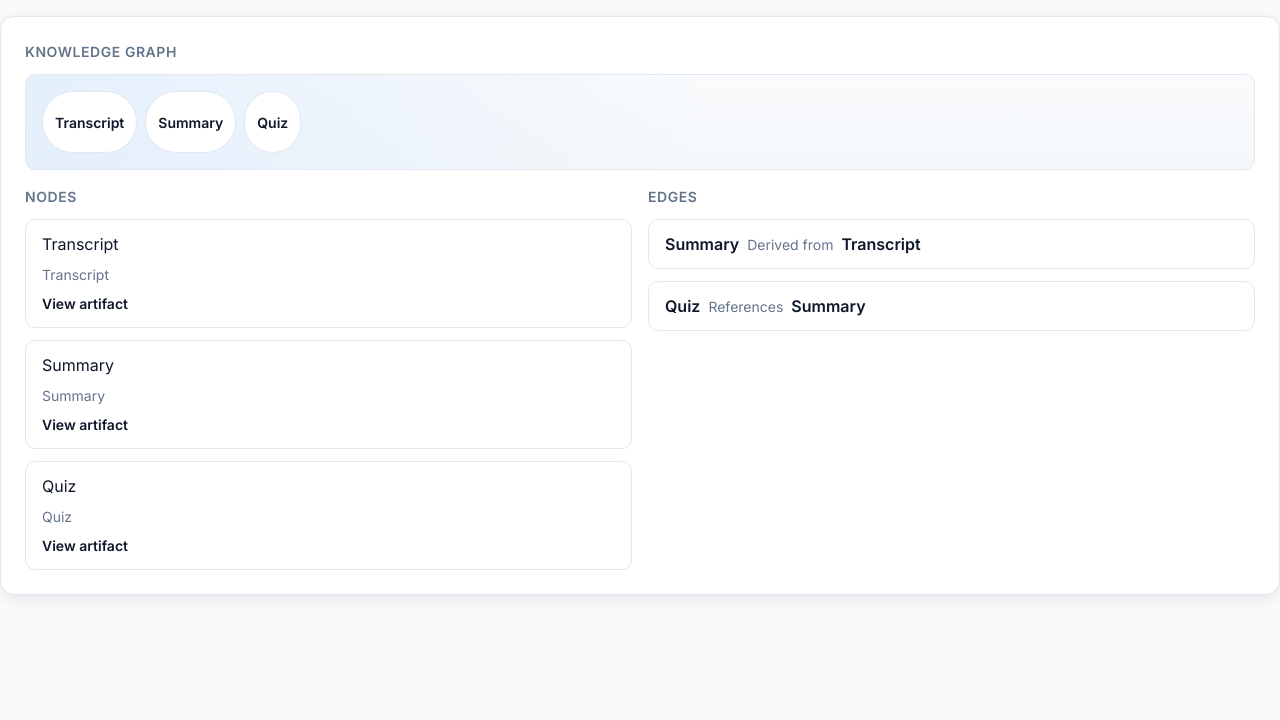
Scenario: KnowledgeGraphPanel › shows neighborhood loading state while neighborhood loads
This screenshot has width=1280, height=720.
Step 1. Click the button with test id "graph-node-select-550e8400-e29b-41d4-a716-446655440002" → (78, 365), box 42,353 -> 615,406
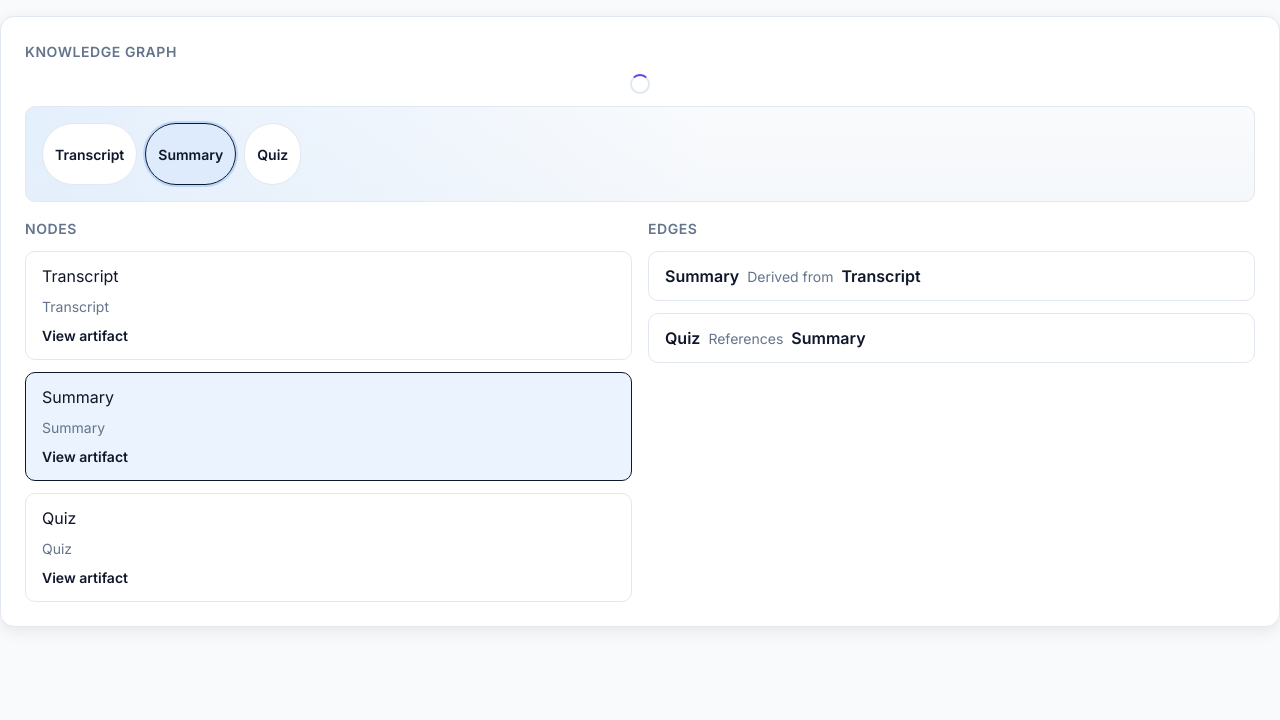
Check: the message named "Loading neighborhood" is shown, box 630,74 -> 650,94
